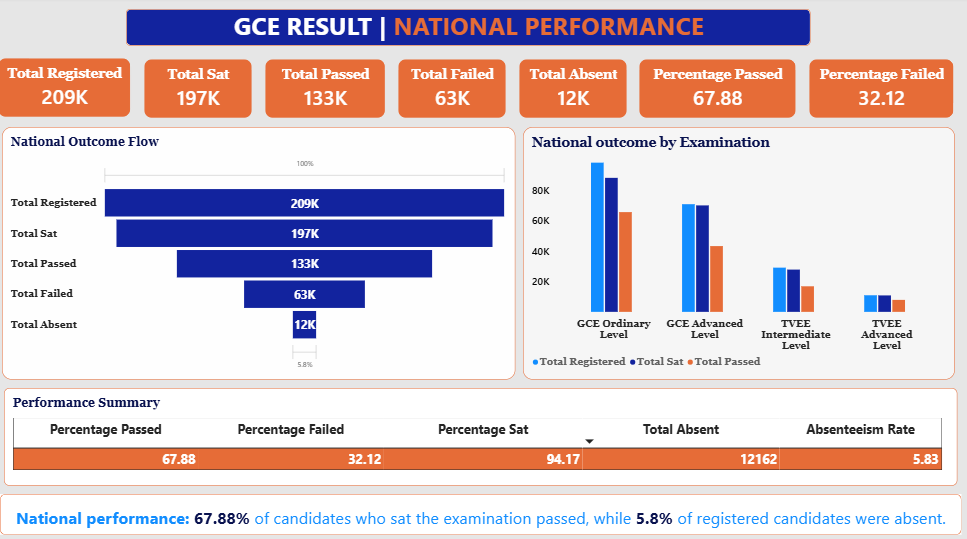

What the dashboard file says about the page in this screenshot:
{"tool":"powerbi","page":{"name":"Overview","canvas":[1920,1080],"ordinal":0},"visuals":[{"type":"cardVisual","fields":{"Data":["Overall perfromance.Total Registered"]},"box":[10.7,118.7,264,120],"z":0},{"type":"cardVisual","fields":{"Data":["Overall perfromance.Total Passed"]},"box":[533.3,119.6,240,120],"z":1000},{"type":"cardVisual","fields":{"Data":["Overall perfromance.Total Sat"]},"box":[296,119.6,216,120],"z":2000},{"type":"cardVisual","fields":{"Data":["Overall perfromance.Total Failed"]},"box":[794.7,119.6,216,120],"z":3000},{"type":"cardVisual","fields":{"Data":["Overall perfromance.Total Absent"]},"box":[1032,119.6,216,120],"z":4000},{"type":"cardVisual","fields":{"Data":["Overall perfromance.Percentage Passed"]},"box":[1269.3,119.6,312,120],"z":5000},{"type":"cardVisual","fields":{"Data":["Overall perfromance.Percentage Failed"]},"box":[1602.6,119.6,288,120],"z":6000},{"type":"funnel","title":"National Outcome Flow","fields":{"Y":["Overall perfromance.Total Registered","Overall perfromance.Total Sat","Overall perfromance.Total Passed","Overall perfromance.Total Failed","Overall perfromance.Total Absent"]},"box":[18.7,254.7,1008,496],"z":7000},{"type":"clusteredColumnChart","title":"National outcome  by Examination","fields":{"Category":["Overall perfromance.Examinations"],"Y":["Overall perfromance.Total Registered","Overall perfromance.Total Sat","Overall perfromance.Total Passed"]},"box":[1042.7,254.7,848,496],"z":8000},{"type":"tableEx","title":"Performance Summary","fields":{"Values":["Overall perfromance.Percentage Passed","Overall perfromance.Percentage Failed","Overall perfromance.Percentage Sat","Overall perfromance.Total Absent","Overall perfromance.Absenteeism Rate"]},"box":[24,768,1872,192],"z":9000},{"type":"shape","box":[16,976,1888,80],"z":10000},{"type":"shape","box":[264,24,1344,72],"z":11000},{"type":"textbox","box":[72,24,1728,72],"z":12000},{"type":"textbox","box":[48,1000,1872,80],"z":12001}]}

Visuals, with their boxes in screenshot pixels (x1, y1, x2, y2), scaled from the page's 1920x1080 canvas onto the 967x539 screenshot:
cardVisual - Overall perfromance.Total Registered: l=5, t=59, r=138, b=119
cardVisual - Overall perfromance.Total Passed: l=269, t=60, r=389, b=120
cardVisual - Overall perfromance.Total Sat: l=149, t=60, r=258, b=120
cardVisual - Overall perfromance.Total Failed: l=400, t=60, r=509, b=120
cardVisual - Overall perfromance.Total Absent: l=520, t=60, r=629, b=120
cardVisual - Overall perfromance.Percentage Passed: l=639, t=60, r=796, b=120
cardVisual - Overall perfromance.Percentage Failed: l=807, t=60, r=952, b=120
"National Outcome Flow" funnel: l=9, t=127, r=517, b=375
"National outcome  by Examination" clusteredColumnChart: l=525, t=127, r=952, b=375
"Performance Summary" tableEx: l=12, t=383, r=955, b=479
shape: l=8, t=487, r=959, b=527
shape: l=133, t=12, r=810, b=48
textbox: l=36, t=12, r=907, b=48
textbox: l=24, t=499, r=966, b=538
